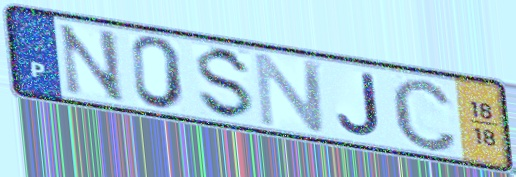0: (128, 33, 186, 112)
C: (388, 75, 461, 155)
J: (334, 71, 384, 138)
N: (251, 50, 329, 134), (56, 21, 128, 105)
S: (194, 45, 258, 123)
